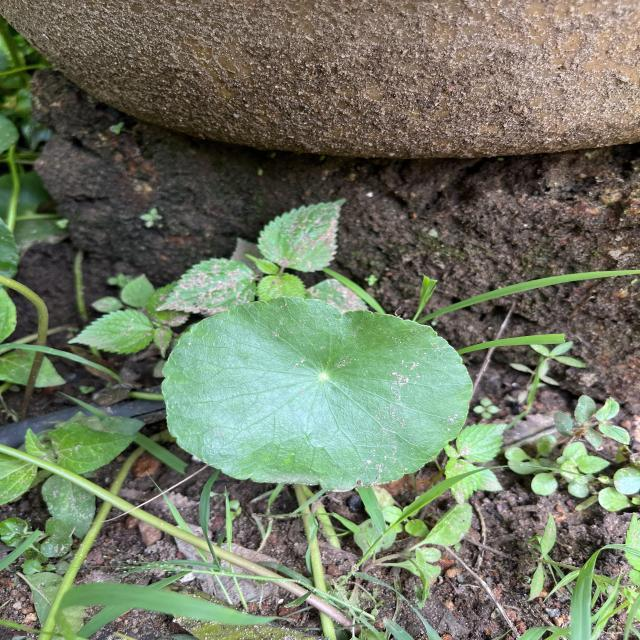Bacopa monnieri: (157, 290, 479, 497)
